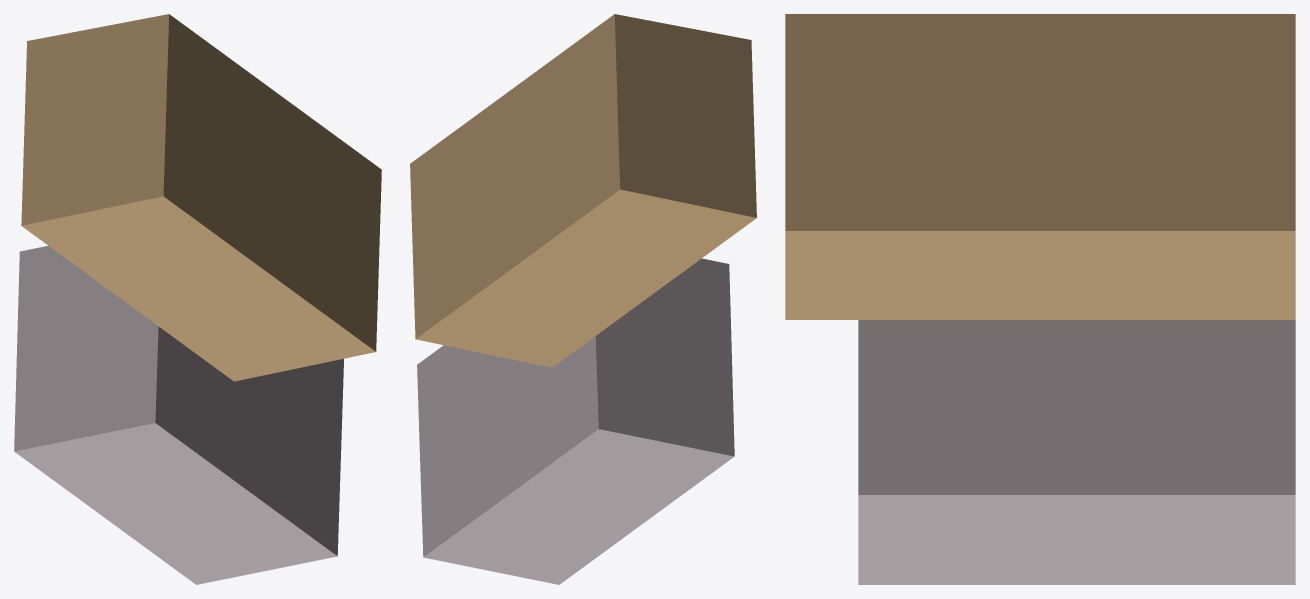
3 views of the same model, side by side, from view 1: azimuth 30°, elevation 25°; view 2: azimuth 150°, elevation 25°; view 3: azimuth 270°, elevation 25° (orthographic). The views are drawn at different scales.
Visible parts, largest first — view 1: 0_2_1_3_0_0_2_0; view 2: 0_2_1_3_0_0_2_0; view 3: 0_2_1_3_0_0_2_0.
Boxes of the visible parts, left/top/right/bottom form: 0_2_1_3_0_0_2_0: left=14, top=14, right=381, bottom=584; 0_2_1_3_0_0_2_0: left=410, top=14, right=756, bottom=584; 0_2_1_3_0_0_2_0: left=785, top=14, right=1295, bottom=584.
Size of the model in its own units: 8.84 by 22.51 by 21.
